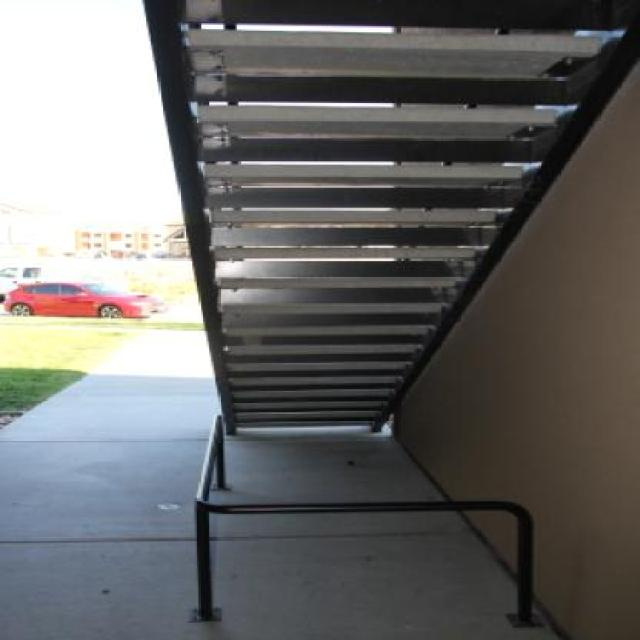stair: (92, 0, 570, 514)
